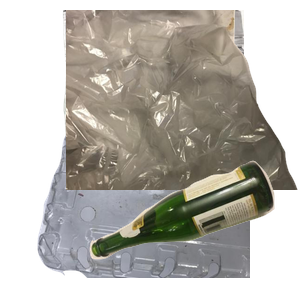glass: (87, 158, 300, 300)
paper: (60, 10, 300, 190)
plastic: (35, 120, 275, 300)
trash: (66, 10, 300, 190)
